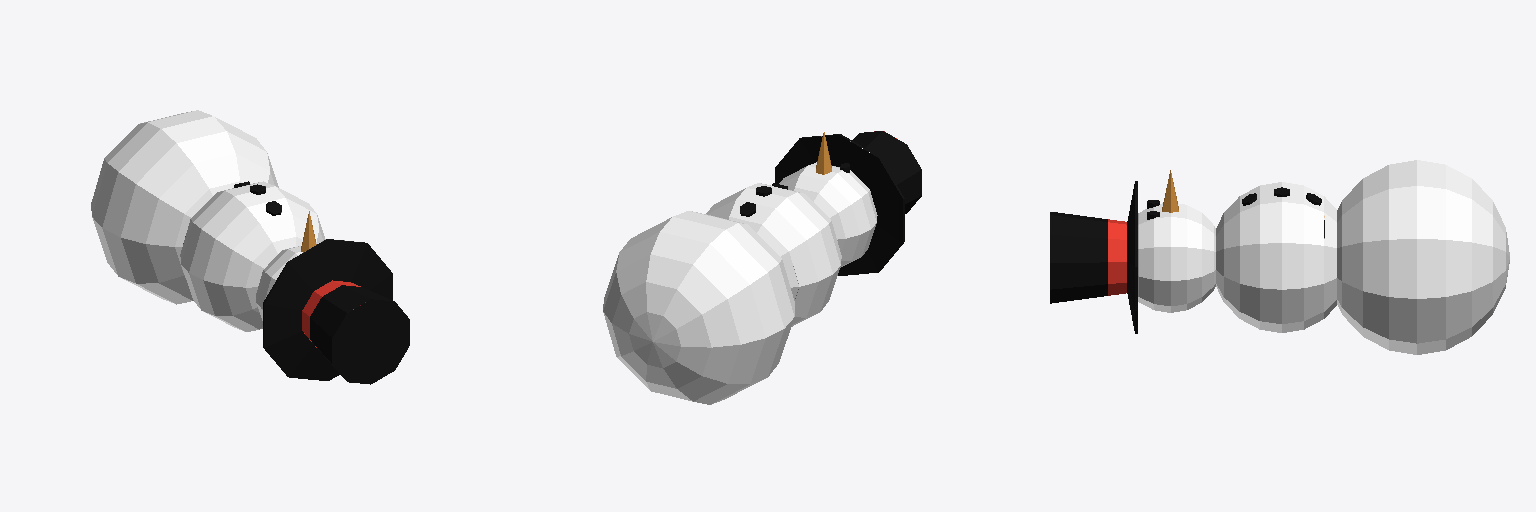
3 views of the same model, side by side, from view 1: azimuth 30°, elevation 25°; view 2: azimuth 150°, elevation 25°; view 3: azimuth 270°, elevation 25° (orthographic).
Parts seen in each view (by area): view 1: pSphere43; view 2: pSphere43; view 3: pSphere43.
Boxes of the visible parts, x1,y1,x2,y2 form: pSphere43: [91, 110, 409, 384]; pSphere43: [603, 131, 921, 404]; pSphere43: [1050, 160, 1509, 354].
Size of the model in its own units: 1.45 by 1.4 by 3.39.
Materials: 1 (1 with a texture image).